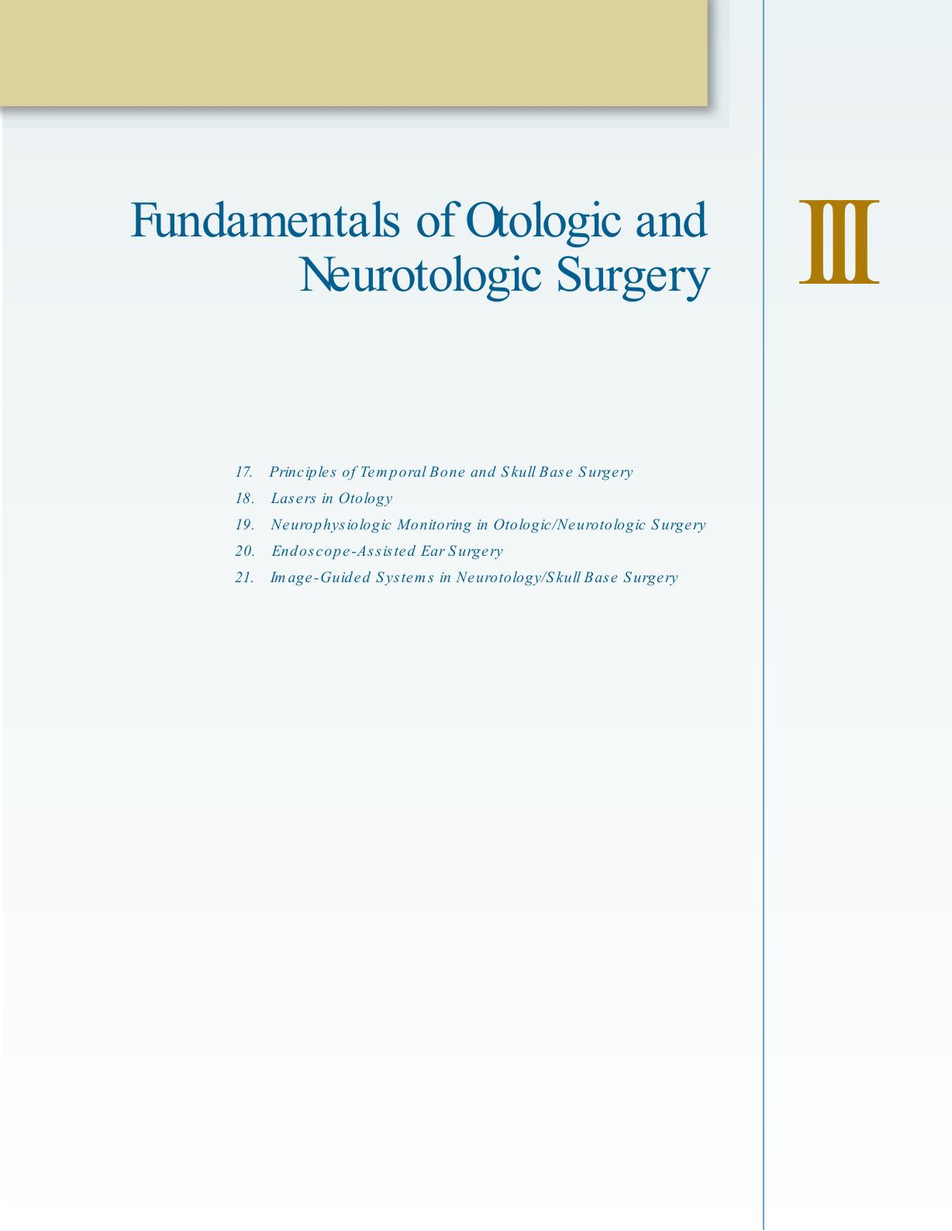chapter-heading: (125, 196, 716, 308)
section-heading: (234, 567, 680, 589), (230, 459, 637, 482), (234, 516, 707, 534), (233, 542, 507, 561), (232, 488, 394, 509)
